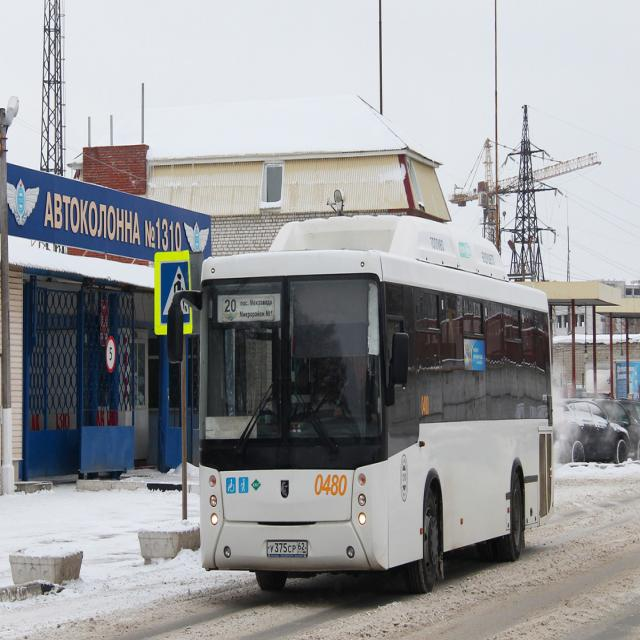number-of-bus: (225, 299, 237, 315)
